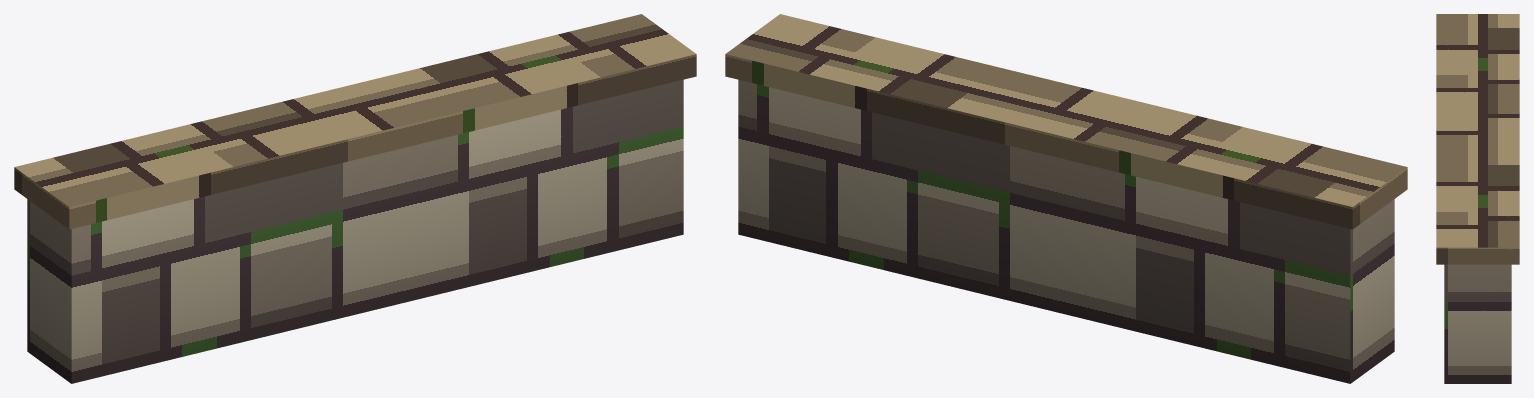
Rendered from retaining_wall_4.glb.
3 renders of one model, left to right at view 1: azimuth 30°, elevation 25°; view 2: azimuth 150°, elevation 25°; view 3: azimuth 270°, elevation 25°, orthographic. The views are drawn at different scales.
Parts seen in each view (by area): view 1: retaining_wall_4; view 2: retaining_wall_4; view 3: retaining_wall_4.
Boxes of the visible parts, x1,y1,x2,y2 form: retaining_wall_4: (14,14,696,383); retaining_wall_4: (725,14,1407,383); retaining_wall_4: (1436,14,1519,383).
Size of the model in its own units: 4.1 by 1.14 by 0.62.
1 material, 1 textured.
